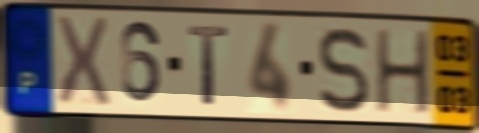4: (244, 18, 296, 118)
6: (118, 18, 165, 110)
H: (373, 27, 433, 118)
S: (316, 24, 371, 115)
T: (185, 23, 232, 109)
X: (53, 13, 113, 110)
